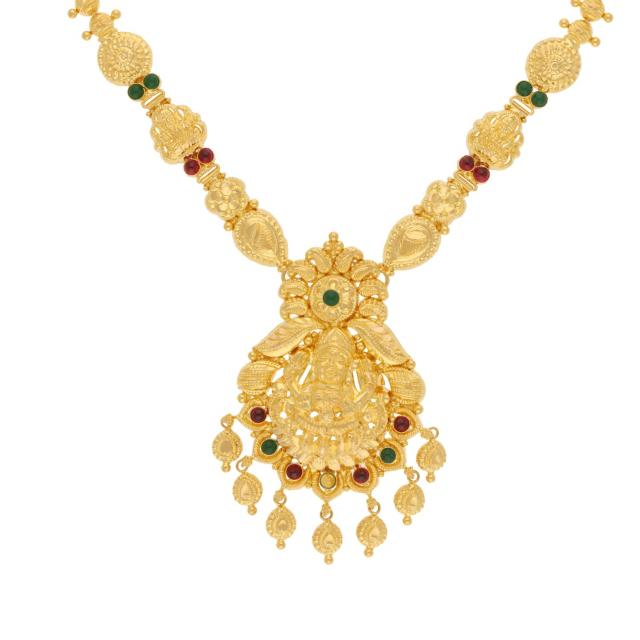missing gem: (320, 473, 335, 488)
